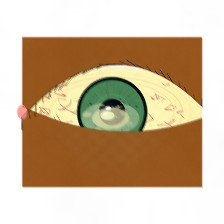corneal_ulcer: (80, 94, 141, 142)
